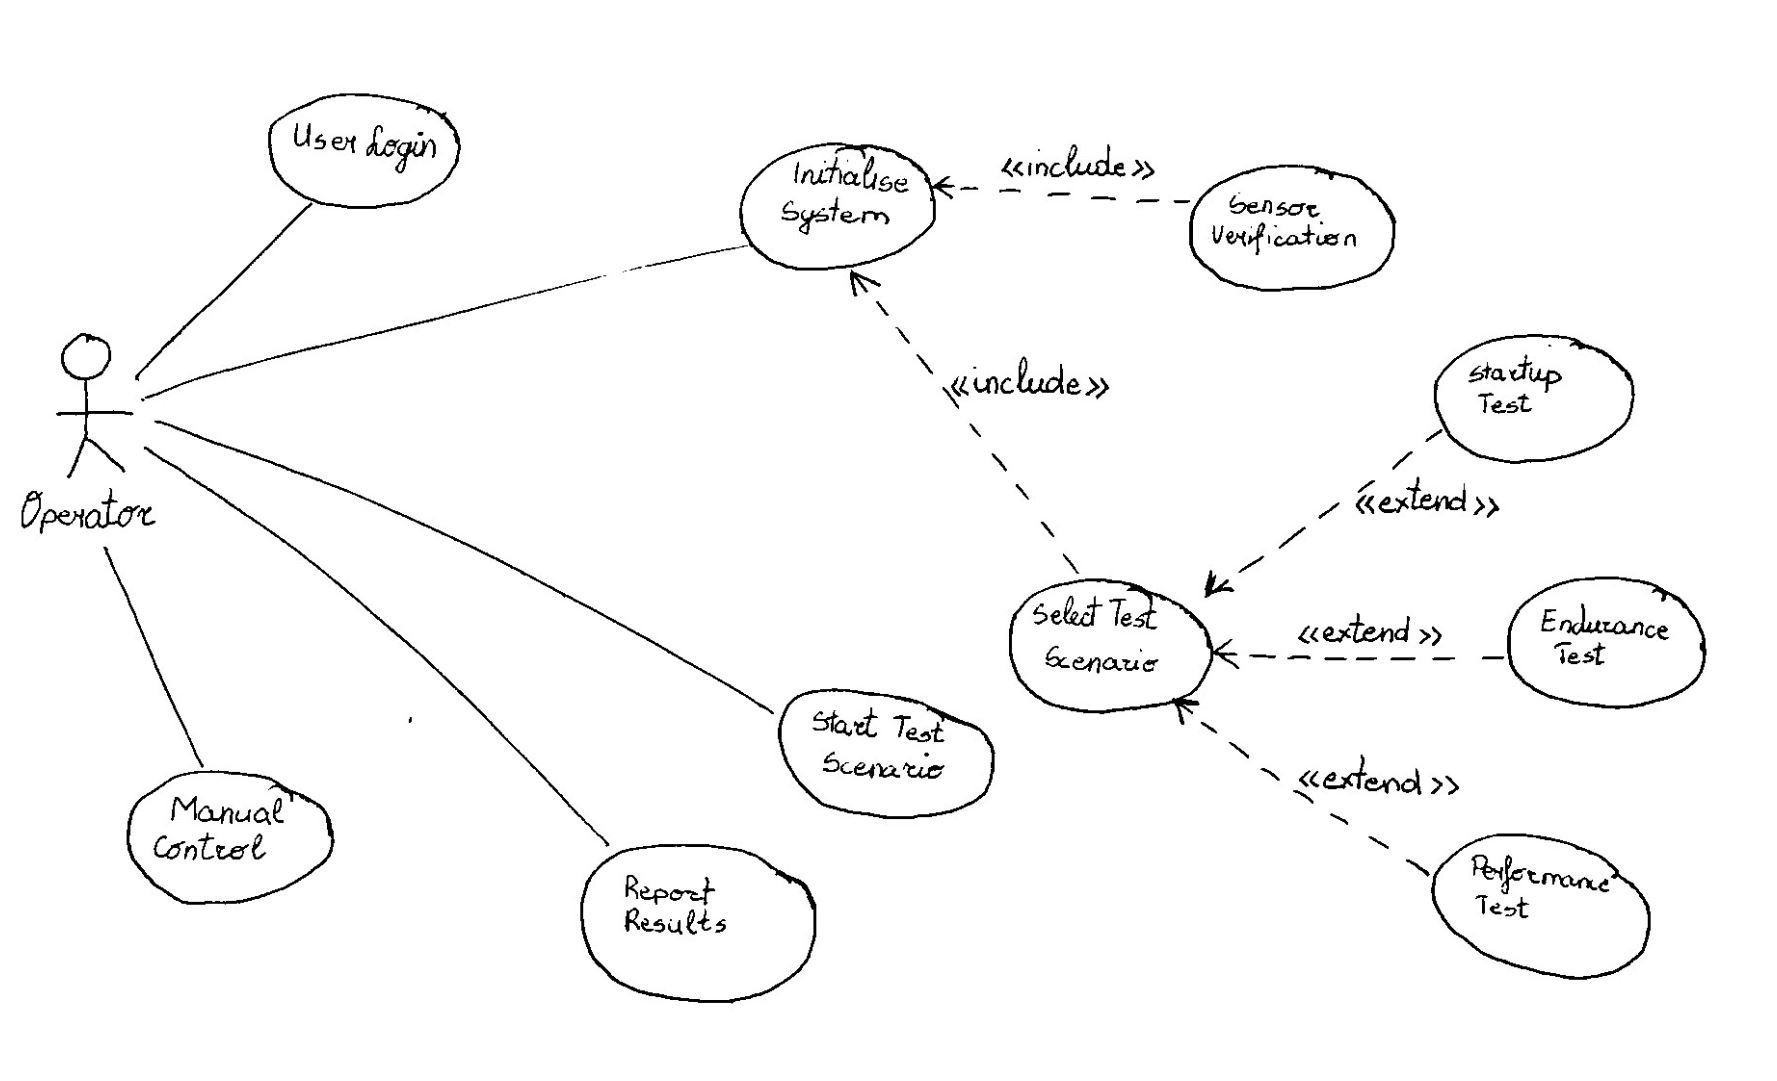actor: (39, 332, 137, 481)
association: (151, 416, 776, 712), (146, 450, 608, 845), (140, 245, 739, 401), (847, 265, 1081, 571), (1169, 695, 1429, 875), (1201, 426, 1447, 600), (132, 202, 312, 382), (102, 540, 207, 768), (1212, 633, 1505, 670), (932, 167, 1187, 209)
text: (803, 705, 963, 785), (1527, 603, 1683, 679), (1029, 595, 1174, 676), (1472, 850, 1626, 924), (1206, 189, 1364, 260), (151, 790, 294, 867), (618, 869, 748, 953), (776, 154, 909, 235), (287, 115, 440, 173), (944, 357, 1120, 398), (17, 486, 162, 535), (993, 145, 1168, 185), (1292, 608, 1450, 650), (1298, 760, 1470, 798), (1463, 359, 1557, 424), (1359, 482, 1498, 524)
use_case: (576, 842, 819, 1004), (1427, 831, 1653, 982), (782, 683, 994, 823), (1007, 579, 1217, 712), (126, 770, 336, 903), (1186, 160, 1394, 294), (1505, 576, 1707, 711), (1432, 332, 1634, 464), (739, 142, 939, 266), (265, 93, 459, 209)
